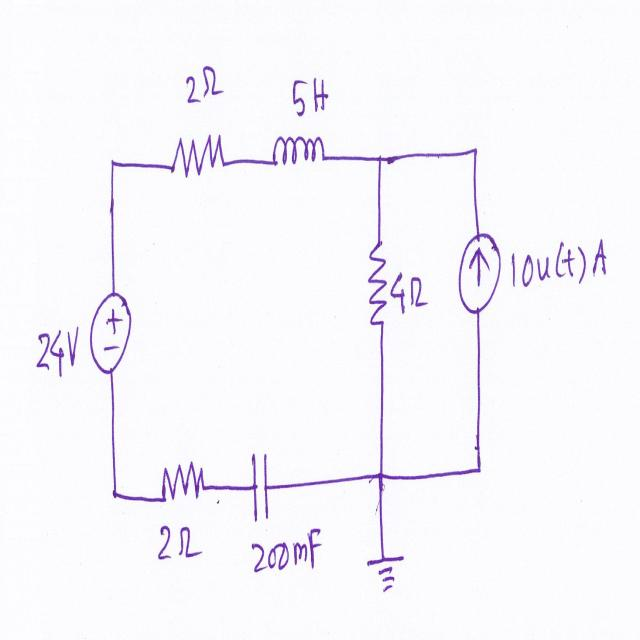capacitor: (247, 444, 275, 530)
current_source: (456, 228, 503, 321)
ground: (360, 545, 410, 598)
inductor: (266, 120, 328, 179)
resistor: (156, 436, 208, 522), (168, 122, 228, 189), (364, 231, 390, 334)
voltage_source: (84, 282, 137, 388)
